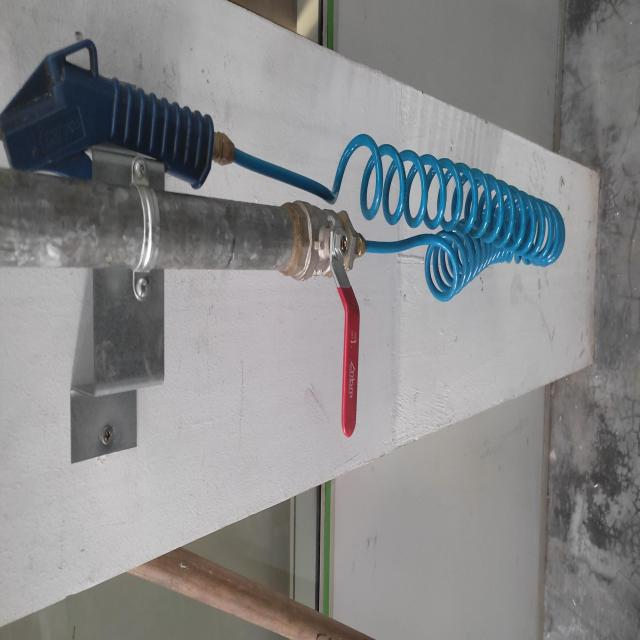closed_valve: (301, 196, 363, 442)
